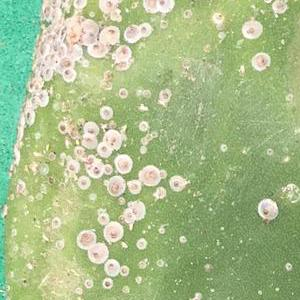Femea: (259, 202, 278, 218), (242, 25, 265, 38), (113, 156, 129, 173), (168, 179, 185, 193), (90, 248, 106, 262), (250, 55, 270, 66), (106, 261, 119, 274), (96, 144, 109, 155), (88, 165, 99, 178), (127, 182, 139, 193), (101, 277, 112, 289), (62, 69, 75, 78), (78, 178, 89, 188), (118, 266, 128, 275)
